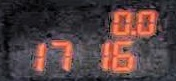-: (129, 29, 135, 34)
0: (111, 10, 130, 35), (136, 10, 155, 34)
1: (100, 41, 109, 69), (35, 42, 43, 70)
6: (110, 39, 132, 70)
7: (49, 40, 70, 69)
